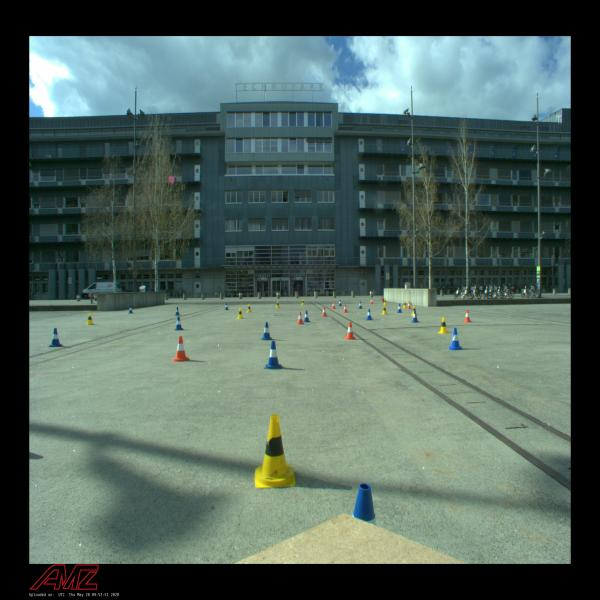blue_cone: (263, 340, 284, 370), (448, 327, 463, 350), (48, 327, 64, 347), (259, 322, 274, 340), (174, 316, 184, 331), (410, 310, 419, 322), (365, 309, 374, 320), (303, 310, 311, 322), (397, 303, 402, 313), (128, 306, 134, 314), (175, 306, 180, 315), (358, 301, 363, 309), (225, 303, 230, 310), (338, 299, 342, 306)
orange_cone: (173, 336, 189, 362), (344, 322, 357, 340), (464, 309, 472, 322), (296, 312, 304, 324), (321, 306, 328, 316), (406, 301, 412, 310), (343, 304, 348, 313), (332, 301, 336, 309), (370, 299, 373, 304)
yellow_cone: (254, 414, 296, 488), (437, 317, 449, 334), (86, 313, 95, 325), (237, 308, 244, 319), (411, 305, 418, 316), (382, 305, 388, 315), (246, 304, 252, 313), (383, 298, 388, 305), (276, 301, 280, 308), (403, 301, 407, 308), (301, 299, 305, 305)
